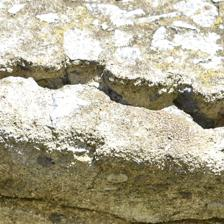Crack: (2, 54, 221, 133)
